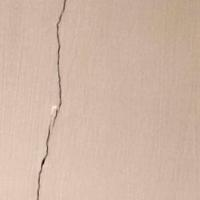crack: (29, 2, 74, 196)
